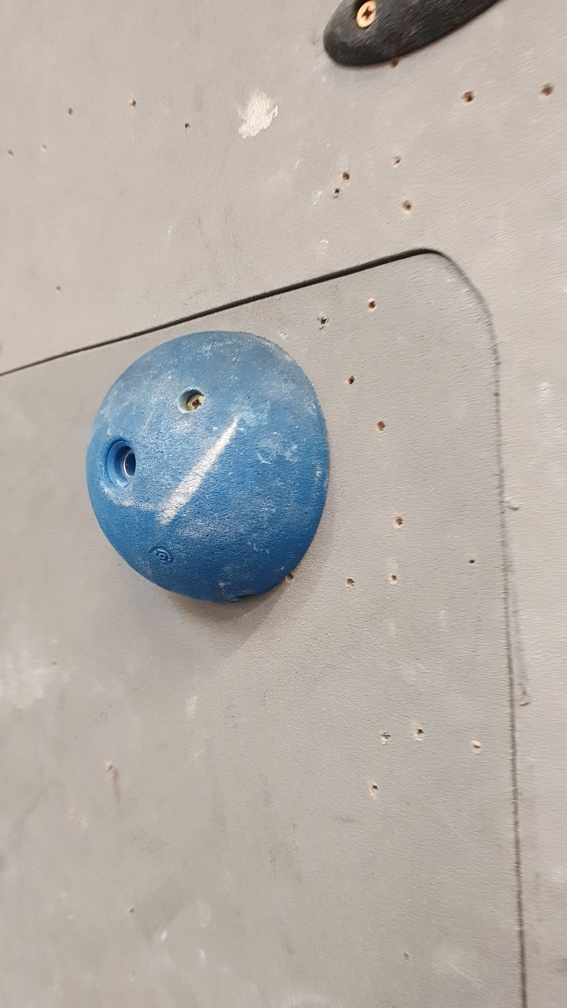Sloper: (81, 328, 339, 614)
